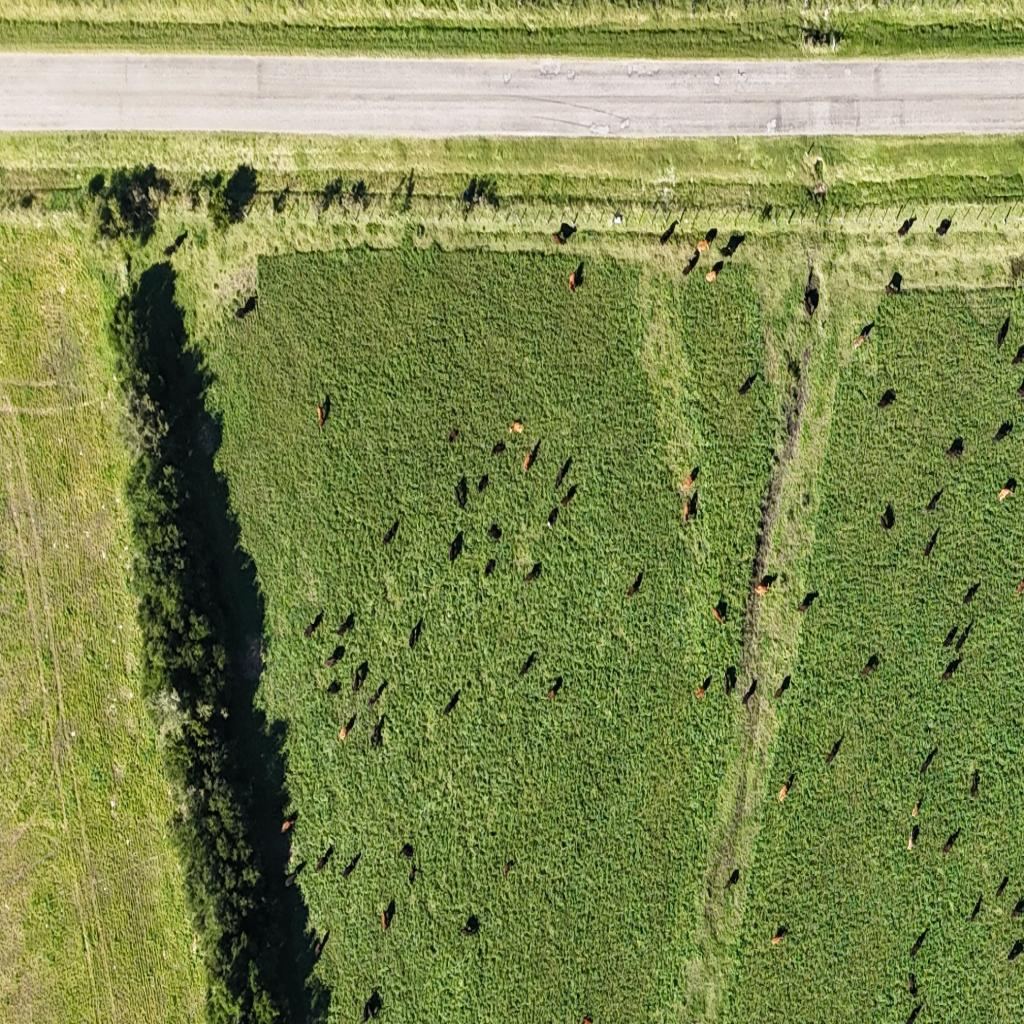cow: (720, 232, 746, 260), (853, 320, 875, 350), (363, 989, 382, 1023), (954, 620, 974, 652), (825, 734, 844, 766), (908, 929, 927, 961), (332, 612, 355, 638), (920, 744, 938, 777), (284, 858, 306, 885), (940, 657, 962, 683), (342, 852, 362, 880), (235, 295, 257, 320), (738, 370, 759, 396), (997, 477, 1018, 503), (554, 456, 571, 488), (779, 770, 796, 802), (996, 314, 1011, 350), (962, 580, 981, 608), (942, 827, 961, 855), (554, 222, 576, 246), (804, 284, 819, 319), (304, 613, 324, 639), (442, 690, 461, 717), (315, 847, 334, 874), (942, 623, 961, 650), (353, 661, 369, 693), (313, 927, 329, 959), (626, 570, 643, 600), (526, 439, 540, 475), (325, 644, 345, 669), (569, 260, 584, 293), (660, 219, 679, 245), (682, 249, 700, 276), (797, 591, 819, 613), (924, 528, 940, 558), (370, 717, 384, 751), (545, 676, 563, 702), (369, 680, 387, 706), (742, 677, 757, 708), (383, 519, 399, 548), (449, 530, 463, 563), (993, 420, 1013, 443), (860, 654, 879, 678), (679, 467, 698, 491), (455, 474, 468, 509), (884, 273, 902, 298), (880, 504, 896, 532), (410, 616, 424, 648), (696, 674, 712, 702), (994, 873, 1010, 901), (712, 599, 728, 627), (519, 652, 536, 678), (876, 388, 896, 410), (459, 914, 478, 937), (774, 674, 791, 699), (756, 572, 777, 592), (945, 437, 964, 459), (381, 900, 394, 932), (926, 489, 943, 513), (969, 892, 983, 920), (560, 484, 576, 508), (897, 216, 914, 238), (725, 665, 736, 699), (524, 562, 542, 582), (316, 398, 328, 428), (702, 228, 718, 250), (905, 1002, 921, 1024), (935, 218, 952, 238), (969, 770, 981, 798), (907, 824, 919, 852), (486, 523, 502, 543), (772, 925, 788, 945), (726, 867, 740, 889), (399, 842, 415, 860), (547, 506, 559, 530), (326, 678, 342, 696), (491, 441, 506, 460), (483, 558, 496, 579), (338, 720, 349, 743), (477, 472, 489, 492), (908, 972, 918, 996), (1014, 938, 1024, 962), (408, 858, 416, 887), (682, 499, 691, 524), (510, 420, 524, 436), (448, 426, 460, 444), (503, 860, 514, 879), (696, 238, 709, 254), (910, 799, 920, 819), (1016, 344, 1024, 368), (1016, 894, 1024, 918), (163, 242, 176, 256), (706, 268, 718, 282), (281, 820, 293, 832), (1018, 375, 1024, 397), (580, 1015, 593, 1024), (1019, 581, 1024, 598)
